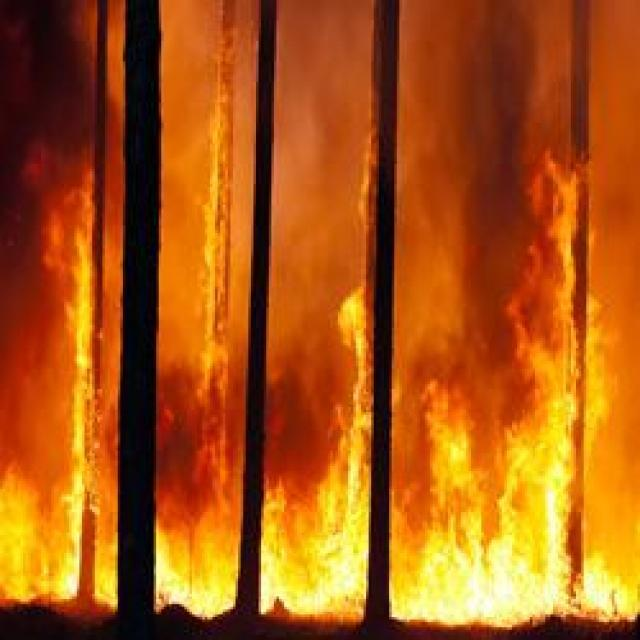Fire: (377, 383, 572, 623), (170, 115, 249, 494), (509, 158, 628, 405), (250, 472, 382, 620), (56, 236, 116, 548), (3, 464, 120, 620), (155, 496, 258, 621), (334, 278, 384, 476), (586, 550, 640, 628)
Smoke: (456, 10, 550, 349), (0, 10, 134, 246), (257, 338, 340, 474)
